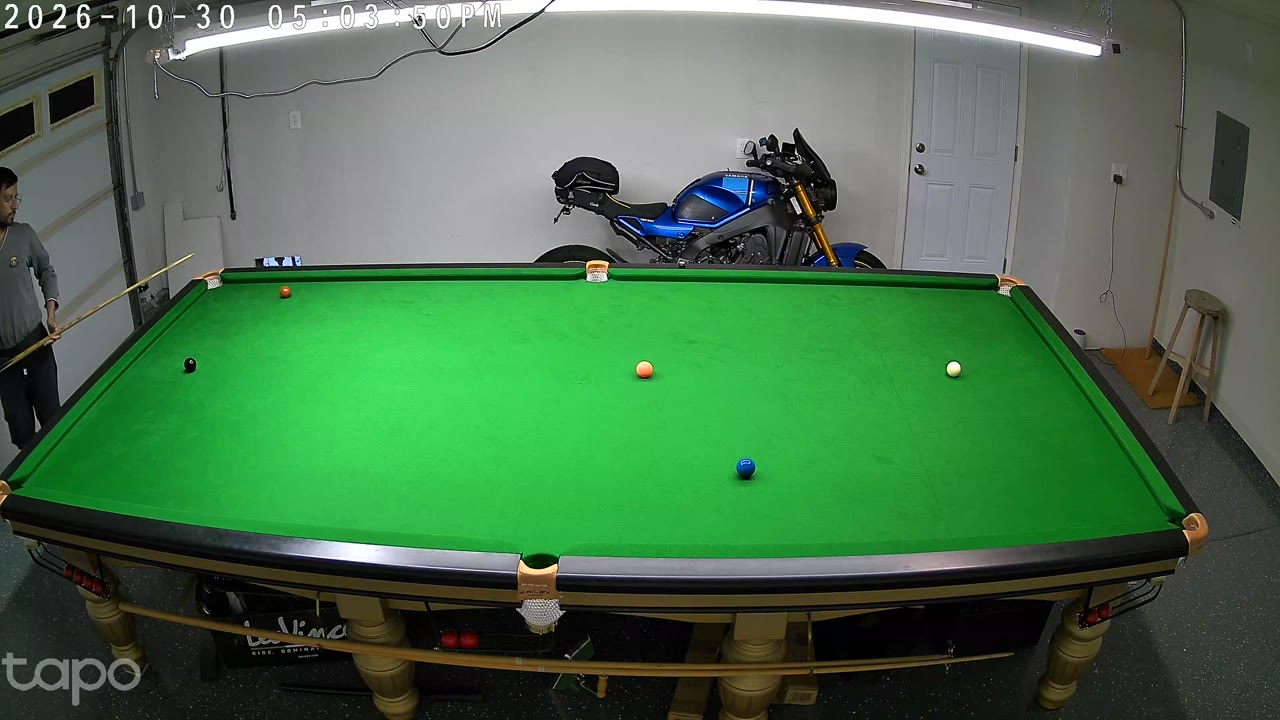black: (184, 356, 196, 375)
blue: (736, 456, 755, 481)
brown: (281, 285, 290, 300)
pink: (636, 360, 653, 381)
white: (947, 360, 961, 380)
